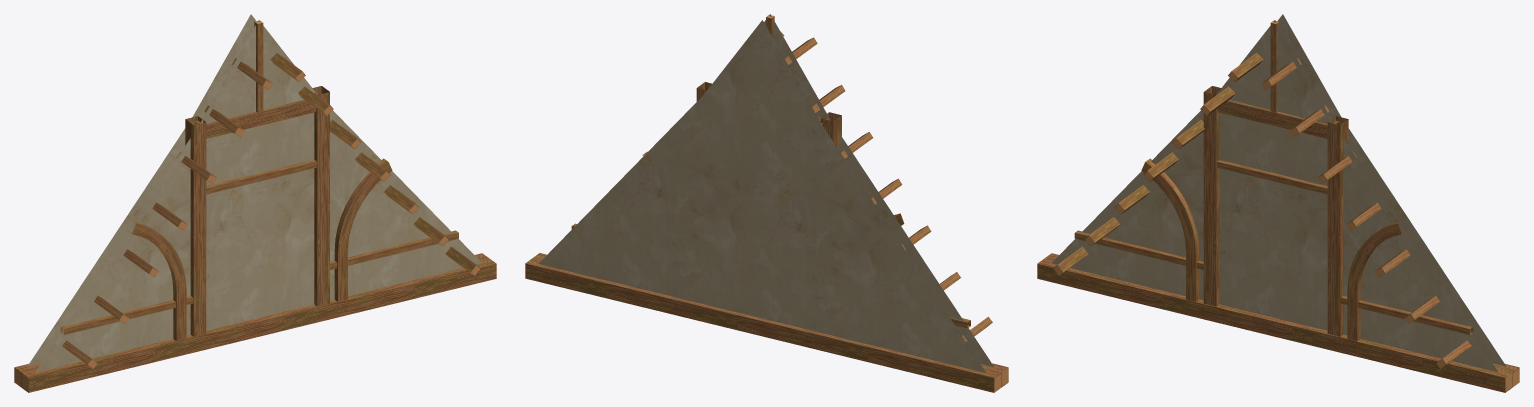
The model's file is Roof_Front_Brick8.glb.
3 views of the same model, side by side, from view 1: azimuth 30°, elevation 25°; view 2: azimuth 150°, elevation 25°; view 3: azimuth 330°, elevation 25° (orthographic).
Visible parts, largest first — view 1: Roof_Front_Brick8; view 2: Roof_Front_Brick8; view 3: Roof_Front_Brick8.
Part boxes in pixels (x1,y1,x2,y2): Roof_Front_Brick8: [14, 14, 496, 392]; Roof_Front_Brick8: [525, 14, 1008, 392]; Roof_Front_Brick8: [1037, 14, 1519, 392].
Size of the model in its own units: 8.51 by 5.45 by 1.13.
Materials: 2 (2 with a texture image).
